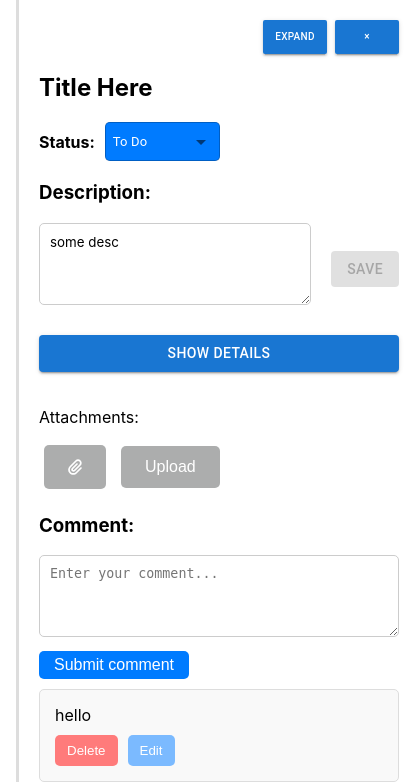
Test: IssuePopup Component › can update the estimate number
click on the Show Details button
Click the button with test id "show-hide-details-button" at (219, 353), box [39,335,399,372]
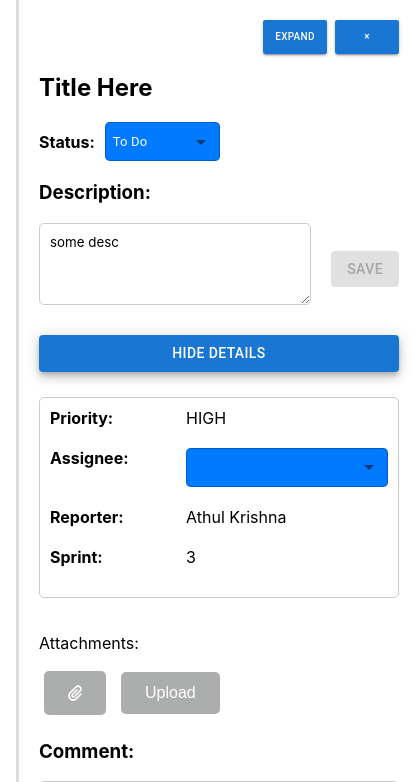
Expected: the element with test id "details-content" is shown, [39,397,399,598]
click on the span element to reveal the input field
Click the text with test id "sprint-number-span" at (191, 557), box [186,547,196,567]
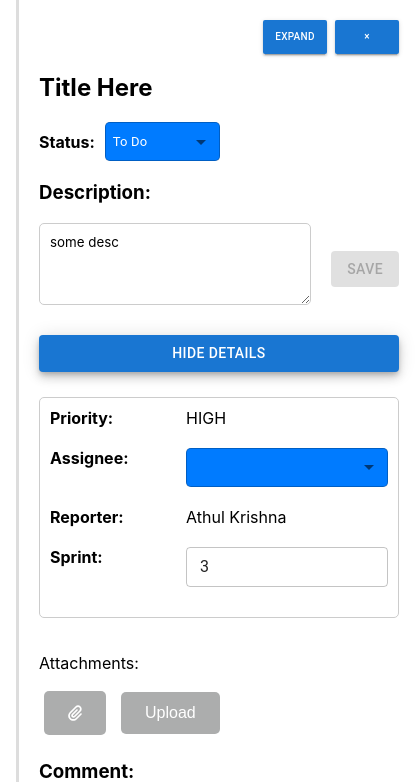
change the value in the input field
Replace the text in the number field showing "3" with "10" at (287, 567), box [186,547,388,587]
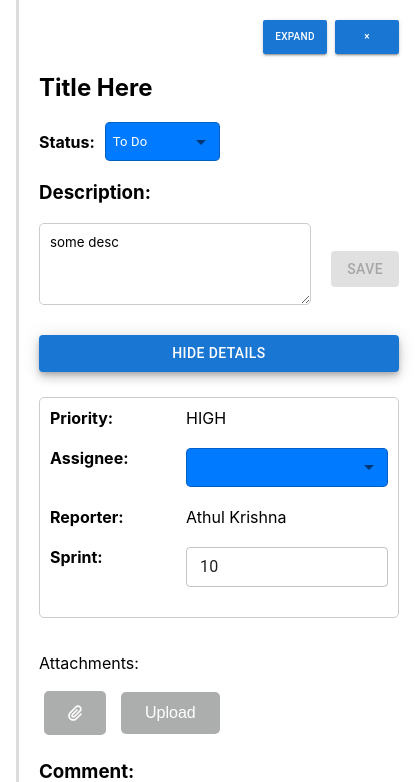
click outside the input to trigger api call
Leave the number field showing "3", box [186,547,388,587]
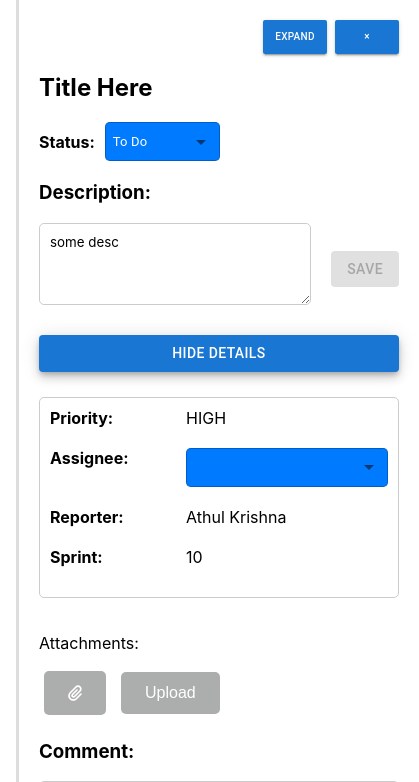
Expected: the text with test id "sprint-number-span" reads "10", [186,547,203,567]
